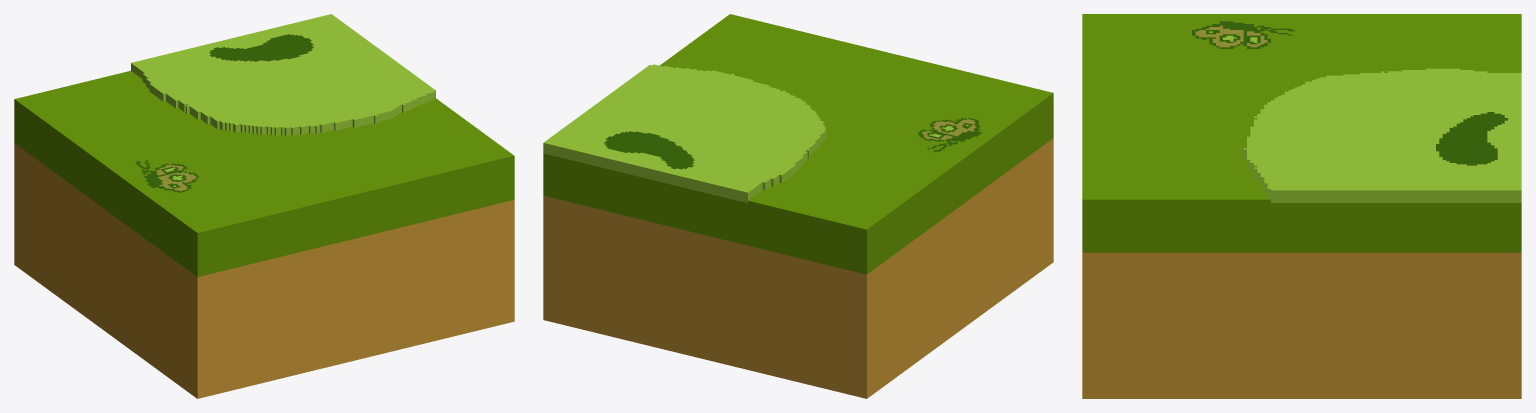
3 renders of one model, left to right at view 1: azimuth 30°, elevation 25°; view 2: azimuth 150°, elevation 25°; view 3: azimuth 270°, elevation 25°, orthographic. The views are drawn at different scales.
Visible parts, largest first — view 1: 15L; view 2: 15L; view 3: 15L.
Boxes of the visible parts, <box> form: 15L: <box>14,14,514,398</box>; 15L: <box>543,14,1053,398</box>; 15L: <box>1082,14,1521,398</box>.
Bounding box in the file's own units: 12.8 × 6.7 × 12.8.
Materials: 1 (1 with a texture image).
